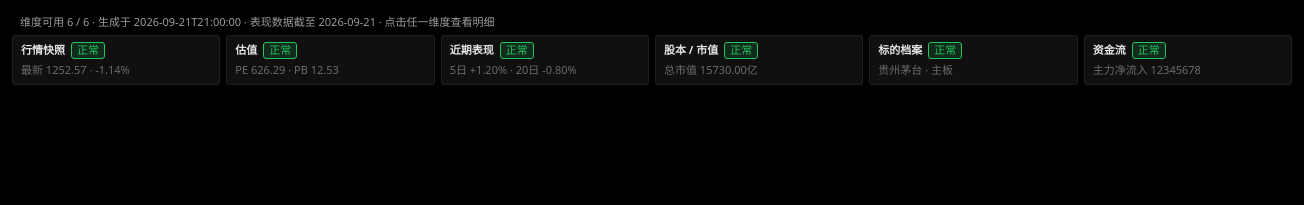
Scenario: FundamentalsPanel · 6 维一排 + 默认收起 › 估值来源可追溯（券商现算 vs 行情源直供口径不同）
This screenshot has width=1304, height=205.
Step 1. Click the button titled "展开「估值」明细" → x=330, y=60, box [226,34,435,85]
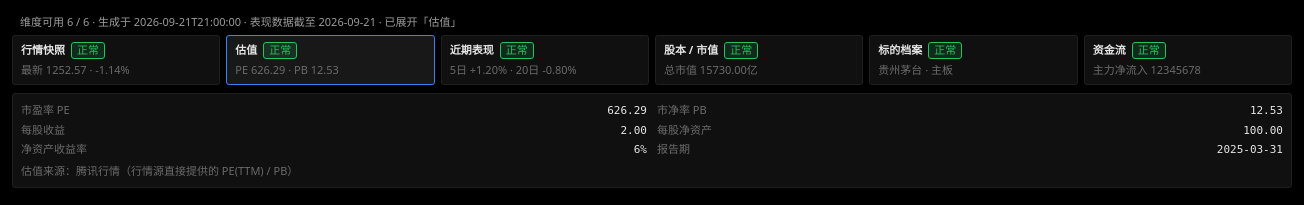
expect the text "估值来源：腾讯行情" is shown: met, box [21,162,298,178]
